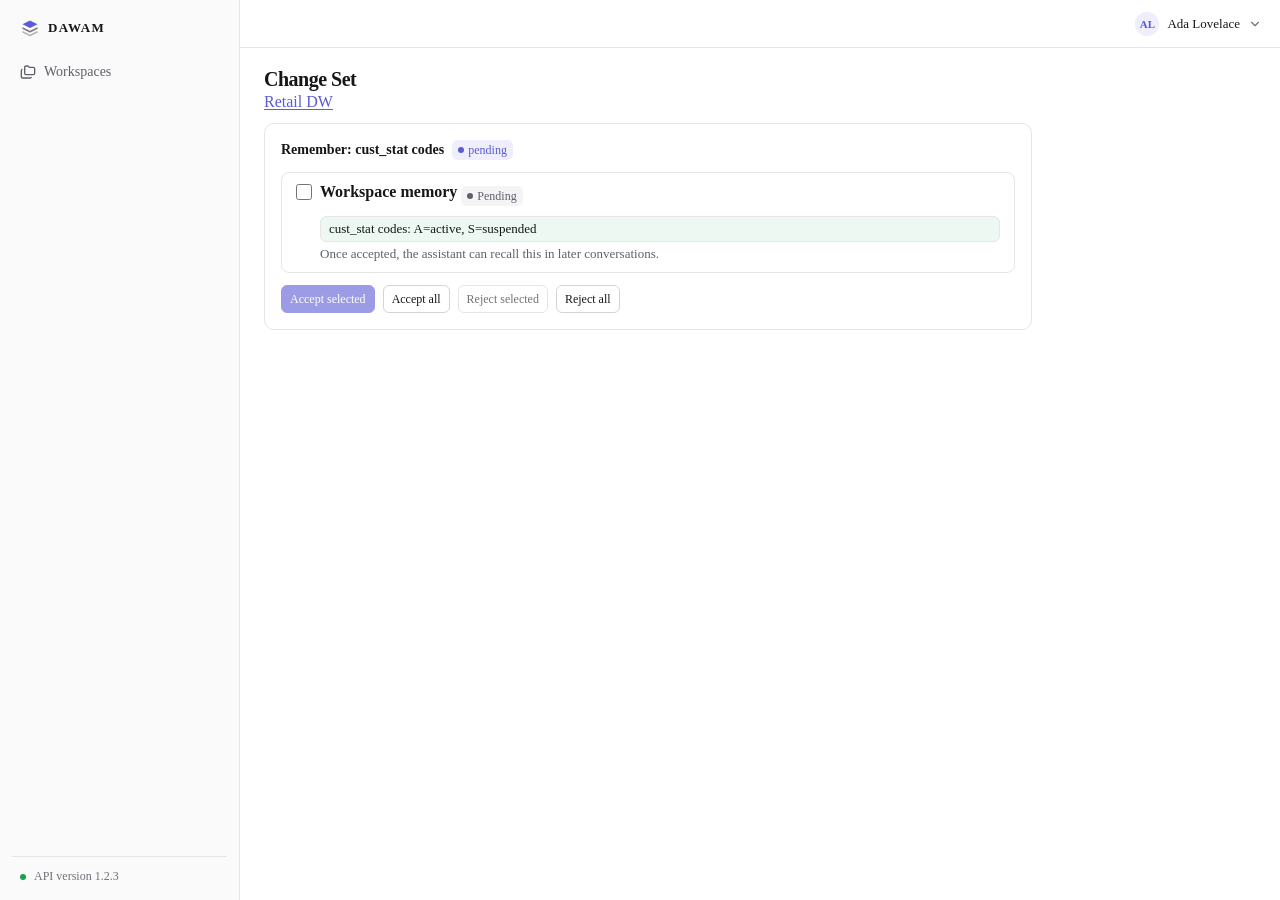
Test: a Workspace memory Change Set › approves the memory item through the Change Set
Click the checkbox named "Select cust_stat codes: A=active, S=suspended" at (304, 192), box [296,184,312,200]
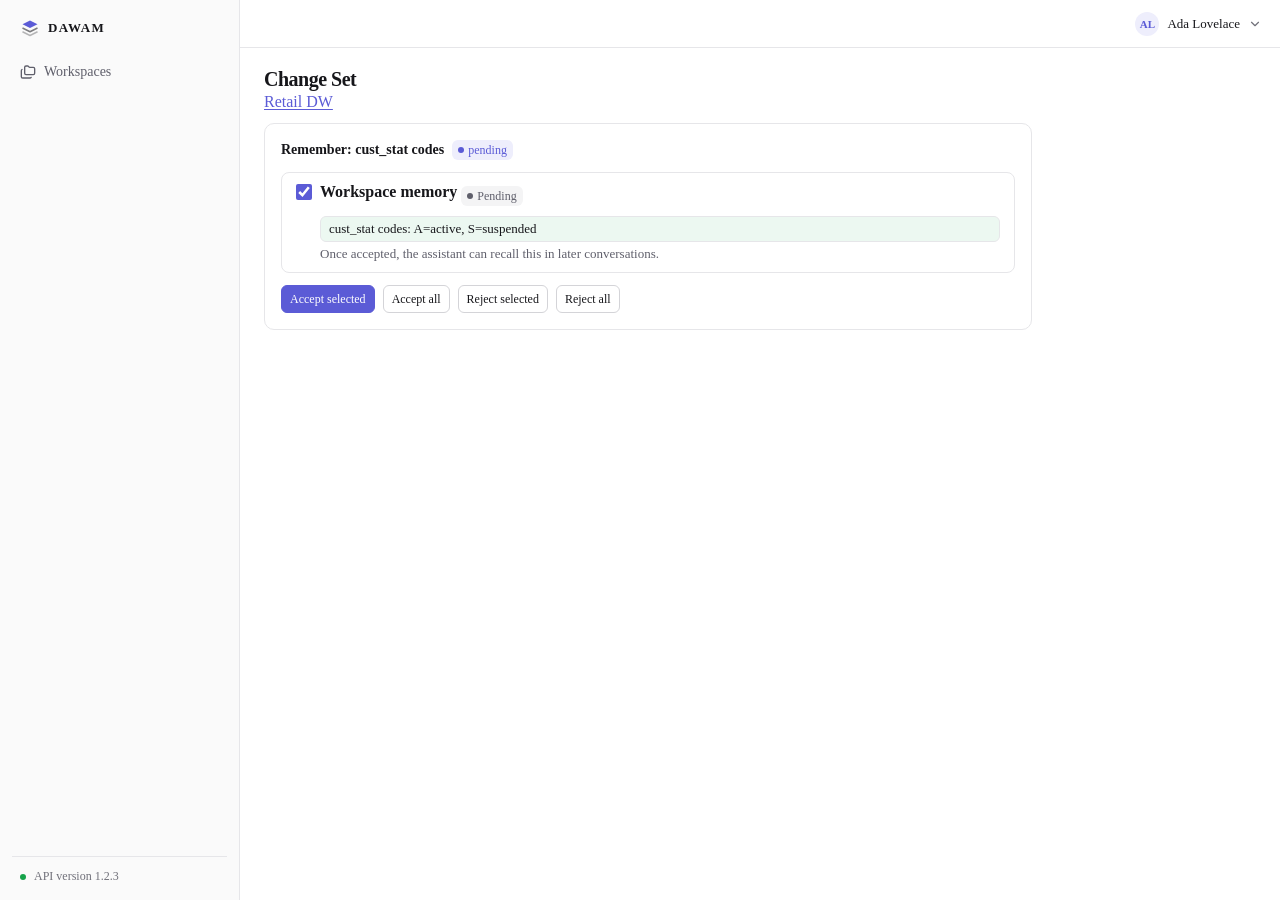
Click the button "Accept selected" at (328, 299), box [281,285,375,313]
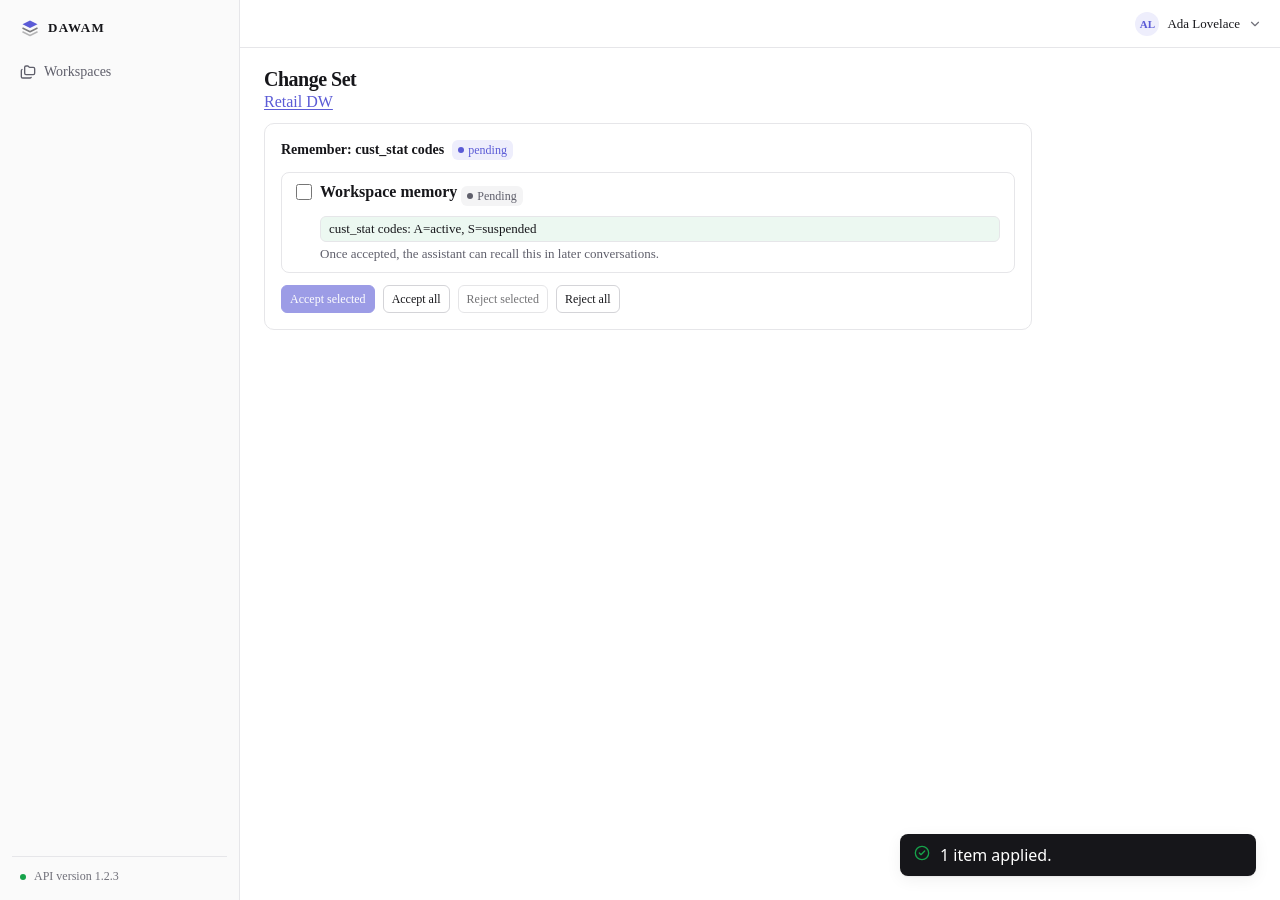
Expected: the text "1 item applied." is shown, [940,844,1051,866]
